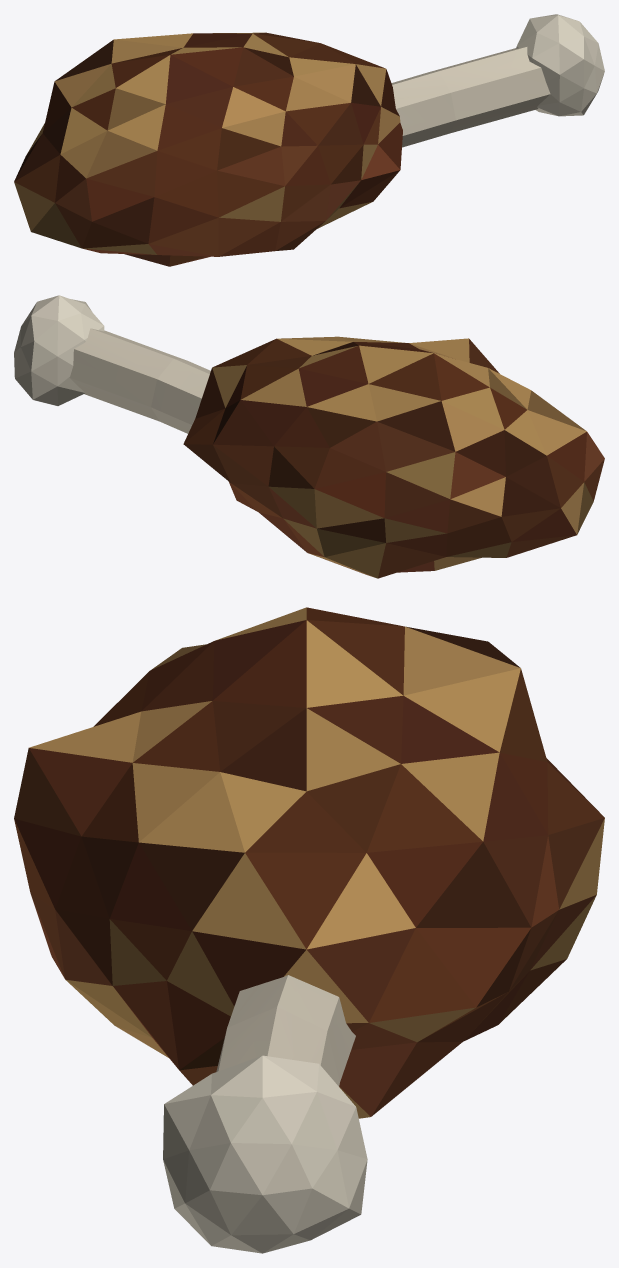
File: meat_cooked.glb
The picture shows the model from 3 angles, top to bottom: view 1: azimuth 30°, elevation 25°; view 2: azimuth 150°, elevation 25°; view 3: azimuth 270°, elevation 25°; orthographic projection. The views are drawn at different scales.
Parts seen in each view (by area): view 1: meat_cooked_solid; view 2: meat_cooked_solid; view 3: meat_cooked_solid.
Part boxes in pixels (x1,y1,x2,y2): meat_cooked_solid: [14, 14, 604, 266]; meat_cooked_solid: [14, 295, 604, 578]; meat_cooked_solid: [14, 607, 604, 1253].
Bounding box in the file's own units: 0.4187 × 0.1528 × 0.2016.
